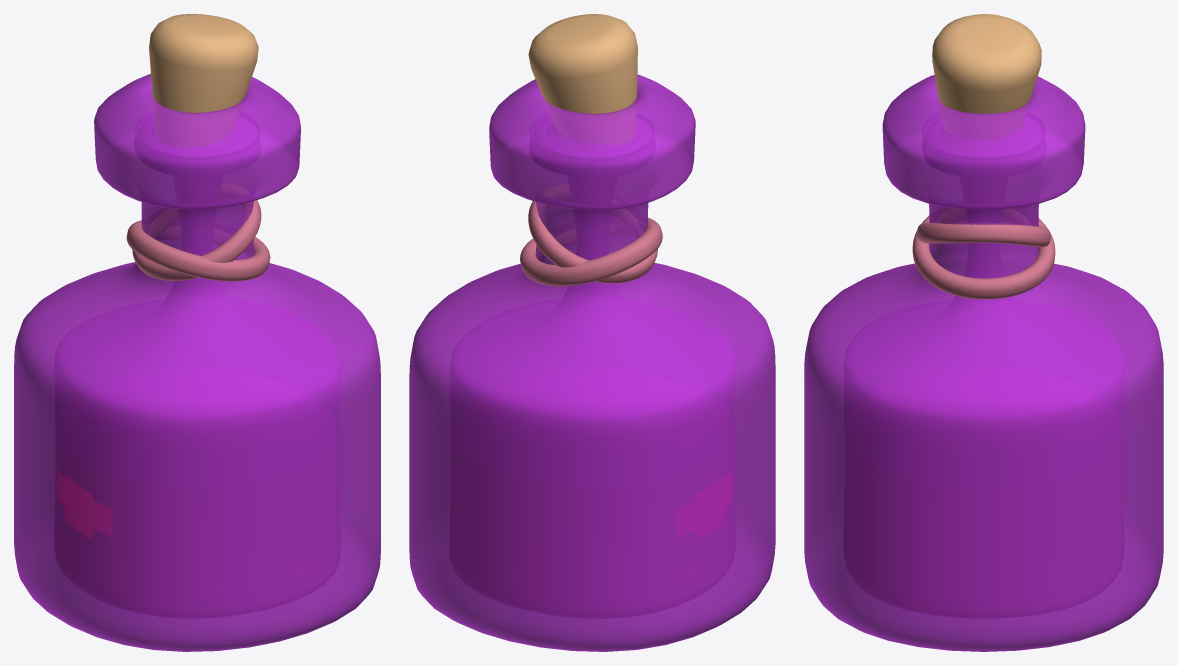
The model's file is Potion3.fbx.
3 renders of one model, left to right at view 1: azimuth 30°, elevation 25°; view 2: azimuth 150°, elevation 25°; view 3: azimuth 270°, elevation 25°, orthographic.
Parts seen in each view (by area): view 1: bottle.003, cork.003, ribbon2.005, ribbon2.006, contents.004; view 2: bottle.003, cork.003, ribbon2.005, ribbon2.006, contents.004; view 3: bottle.003, cork.003, ribbon2.005, ribbon2.006.
Part boxes in pixels (bbox=[...]): bottle.003: bbox=[14, 74, 380, 651]; cork.003: bbox=[149, 14, 258, 146]; ribbon2.005: bbox=[126, 220, 270, 281]; ribbon2.006: bbox=[132, 183, 261, 280]; contents.004: bbox=[57, 469, 111, 538]; bottle.003: bbox=[409, 74, 775, 651]; cork.003: bbox=[528, 14, 637, 144]; ribbon2.005: bbox=[520, 217, 662, 286]; ribbon2.006: bbox=[528, 183, 657, 283]; contents.004: bbox=[677, 470, 731, 539]; bottle.003: bbox=[804, 75, 1163, 651]; cork.003: bbox=[932, 14, 1041, 139]; ribbon2.005: bbox=[912, 208, 1055, 299]; ribbon2.006: bbox=[917, 222, 1050, 247].
Bounding box in the file's own units: 183 × 319 × 183.
